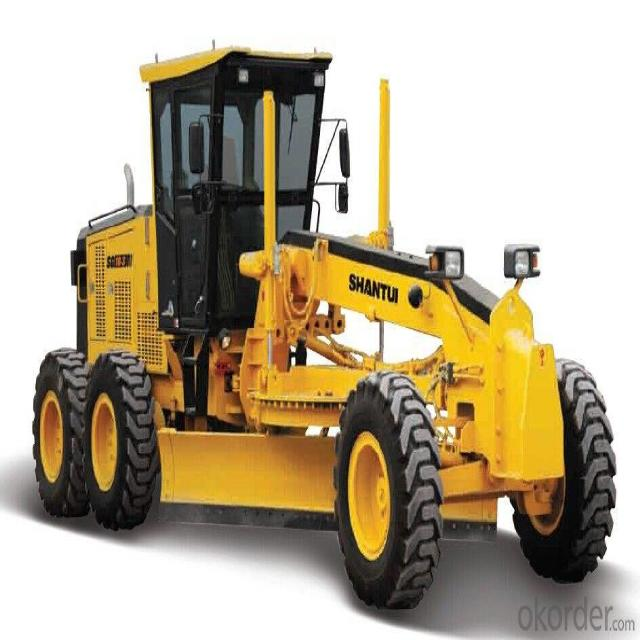Grader: (26, 36, 640, 609)
